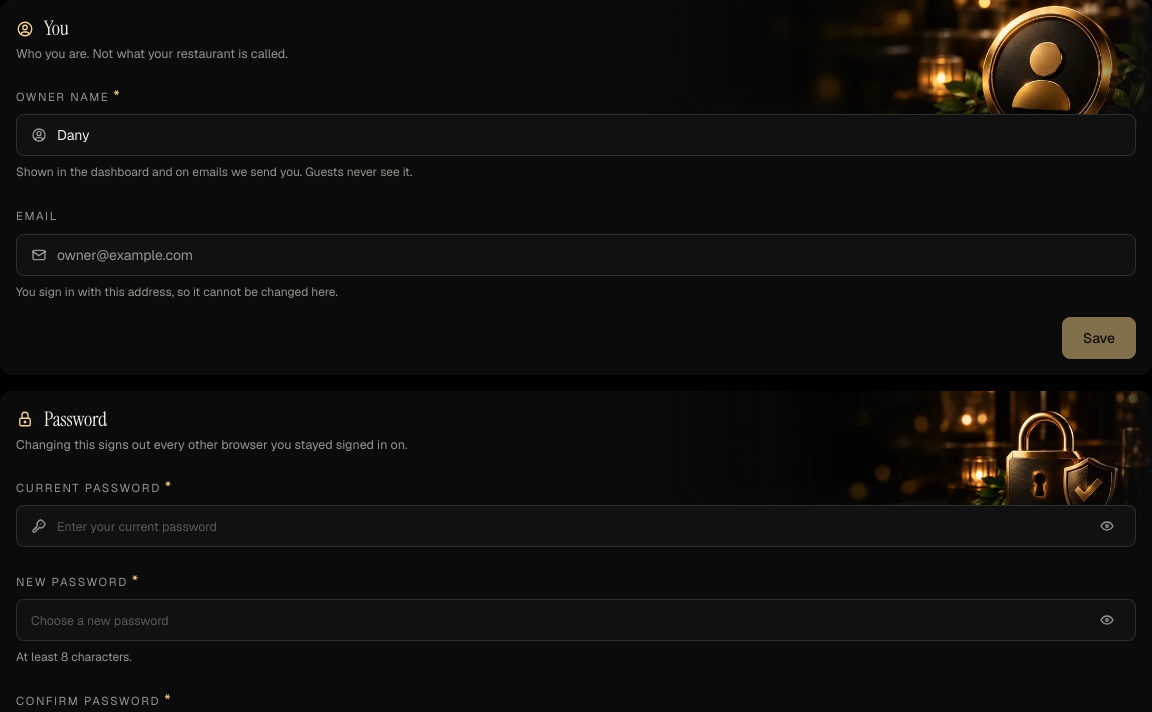
Test: AccountPage › tells the owner when the name could not be saved
This screenshot has width=1152, height=712.
Type " S" into the field labelled "Owner name*".
click(594, 135); type(" S")  # box [53,115,1135,155]
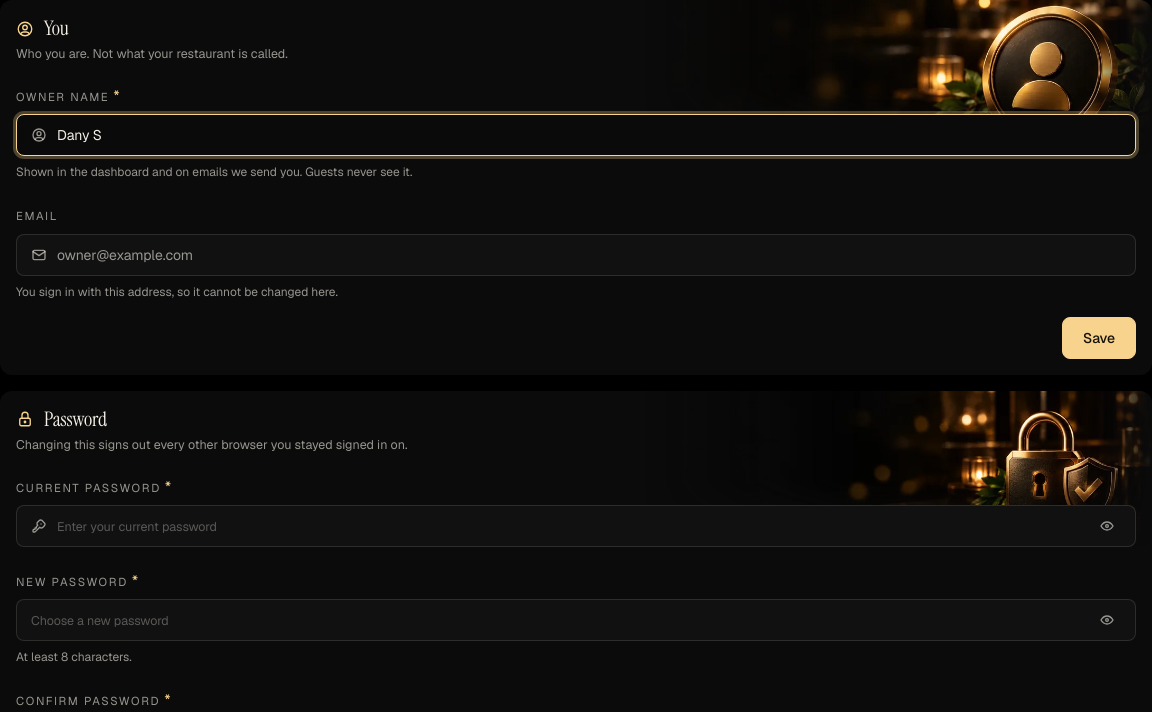
Click the button "Save".
click(1099, 338)  # box [1062,317,1136,359]
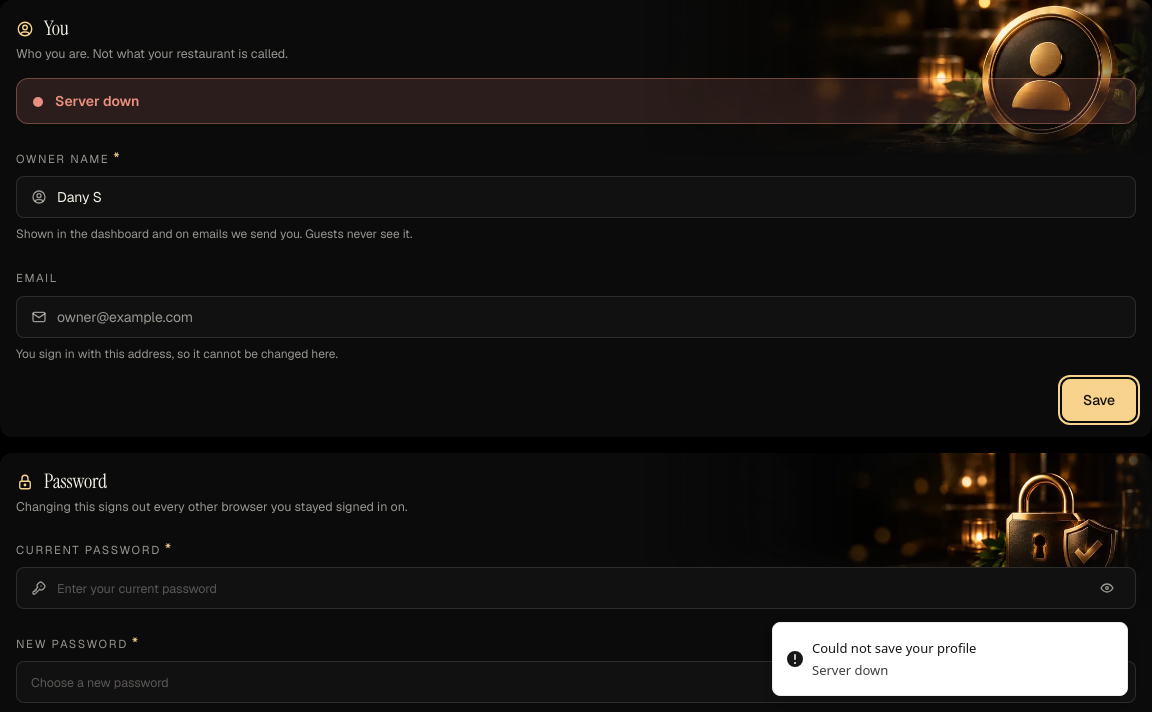
Expected: the text "Could not save your profile" is shown, [812,639,976,659]
Expected: the message reads "Server down", [55,92,139,110]
